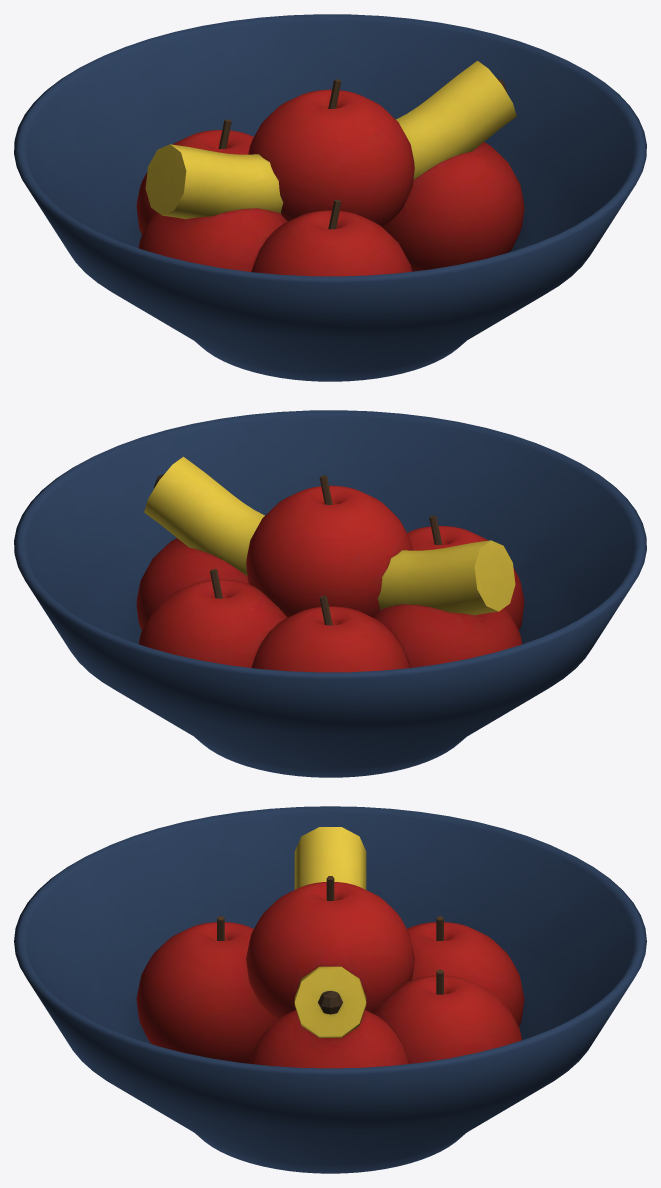
File: apples-bananas.glb
The picture shows the model from 3 angles, top to bottom: view 1: azimuth 30°, elevation 25°; view 2: azimuth 150°, elevation 25°; view 3: azimuth 270°, elevation 25°; orthographic projection.
Parts seen in each view (by area): view 1: ceramic_primary, apple_skin, banana_peel, stem_brown; view 2: ceramic_primary, apple_skin, banana_peel, stem_brown; view 3: ceramic_primary, apple_skin, banana_peel, stem_brown.
Boxes of the visible parts, <box> form: ceramic_primary: <box>14,14,646,381</box>; apple_skin: <box>136,89,524,276</box>; banana_peel: <box>145,60,516,219</box>; stem_brown: <box>218,79,341,229</box>; ceramic_primary: <box>14,410,646,777</box>; apple_skin: <box>136,485,524,672</box>; banana_peel: <box>144,456,515,615</box>; stem_brown: <box>210,475,442,625</box>; ceramic_primary: <box>14,806,646,1173</box>; apple_skin: <box>136,882,524,1068</box>; banana_peel: <box>294,827,366,1037</box>; stem_brown: <box>217,876,443,994</box>.
Bounding box in the file's own units: 0.3 × 0.1253 × 0.3.
5 materials, 3 textured.
